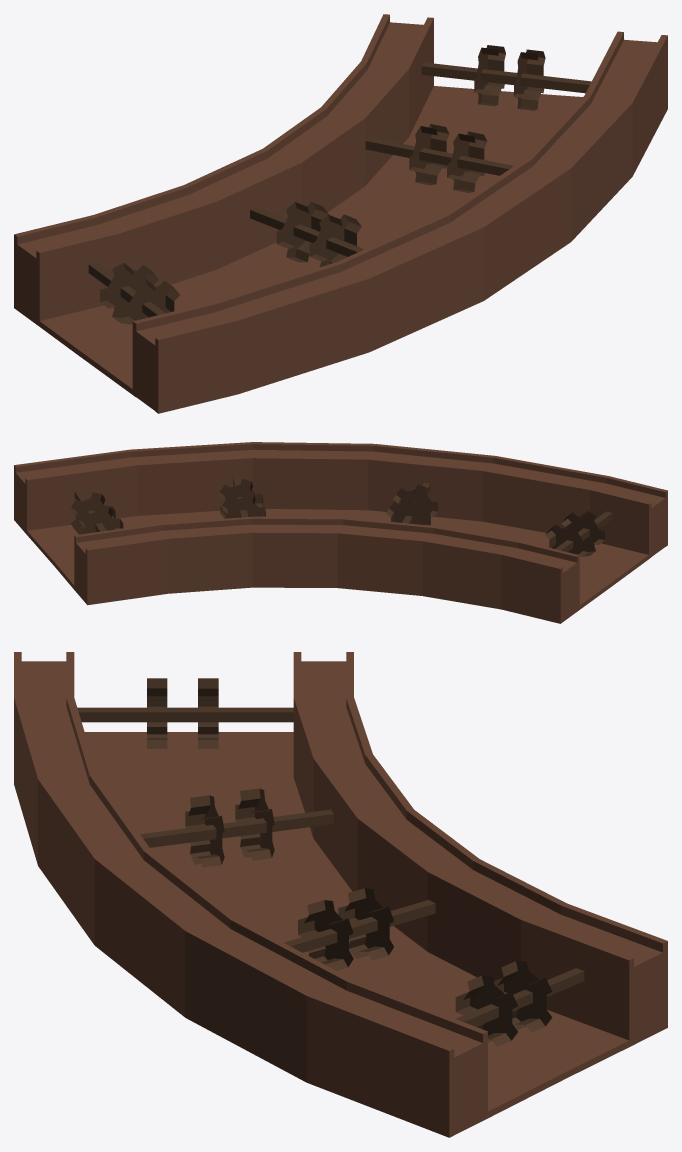
The model's file is rail gauche 2 num 2.fbx.
3 views of the same model, one above another, from view 1: azimuth 30°, elevation 25°; view 2: azimuth 150°, elevation 25°; view 3: azimuth 270°, elevation 25° (orthographic). The views are drawn at different scales.
Parts seen in each view (by area): view 1: rail droit 2; view 2: rail droit 2; view 3: rail droit 2.
Part boxes in pixels (x1=…): rail droit 2: x1=14, y1=14, x2=667, y2=413; rail droit 2: x1=14, y1=442, x2=667, y2=623; rail droit 2: x1=14, y1=652, x2=667, y2=1137.
Bounding box in the file's own units: 1221 × 126 × 845.
